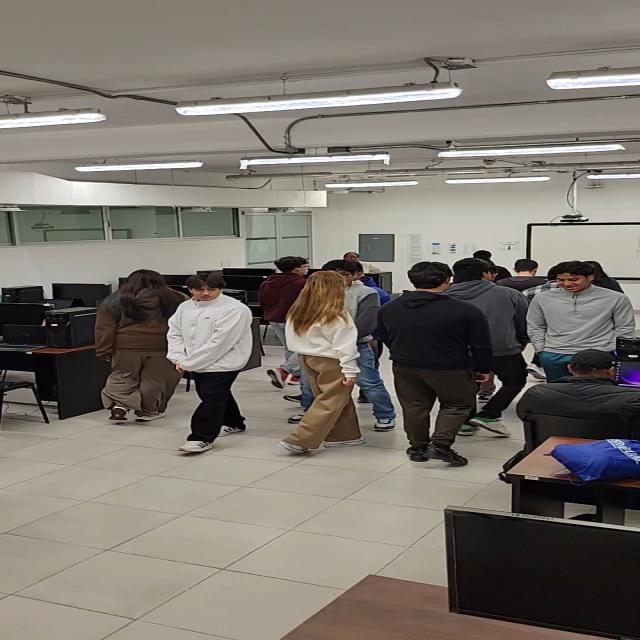Persona: (373, 261, 491, 467), (284, 258, 402, 431), (277, 269, 367, 453), (166, 271, 256, 454), (94, 268, 194, 422), (449, 256, 532, 438), (525, 259, 640, 387), (254, 254, 333, 389)
